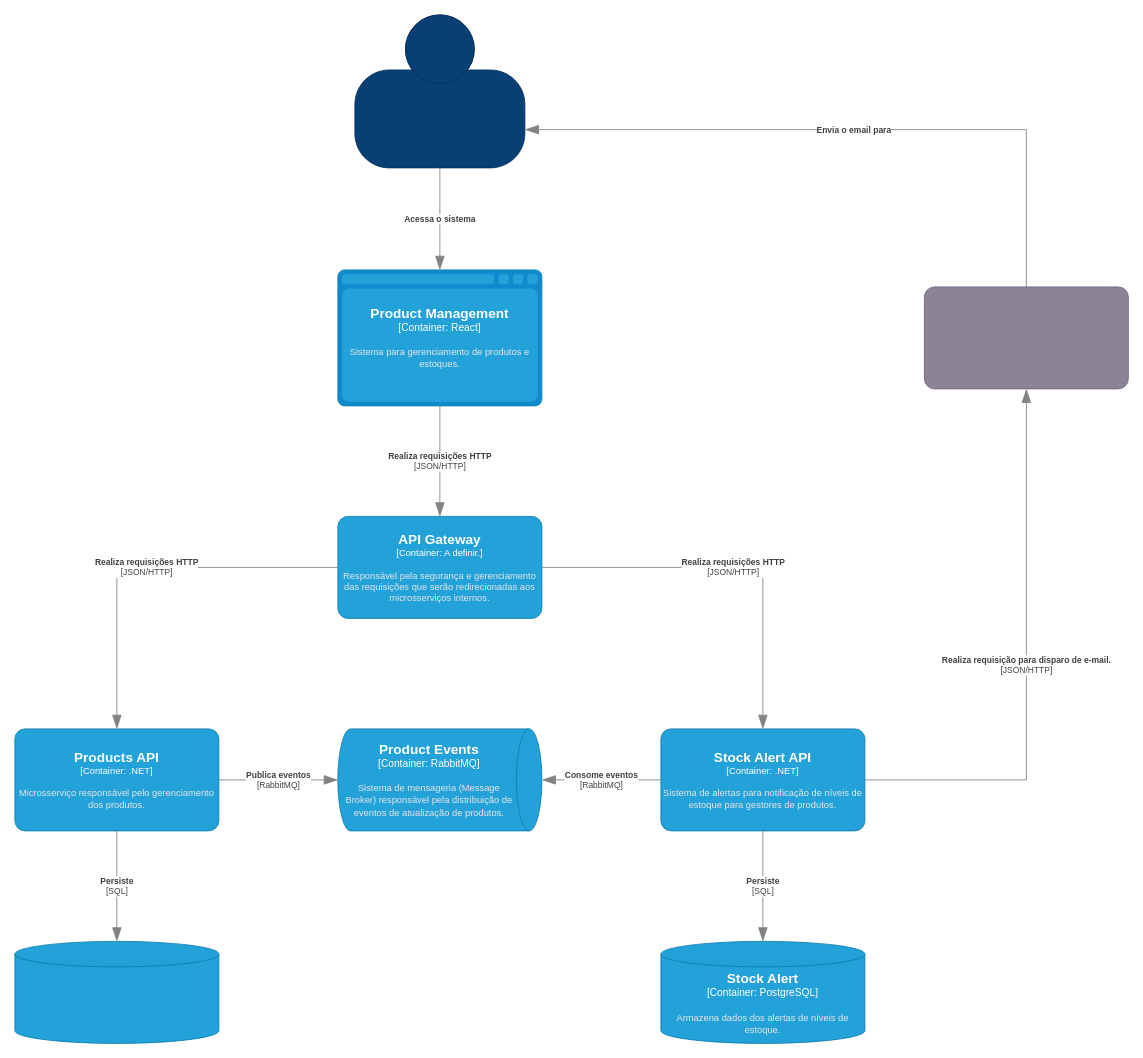
This 1143x1058 diagram has some shape labels left out. Each missing label, with the centre of its shape:
"Product Manager [Person] Responsável por cadastrar produtos e compra de estoque." belongs at pixel 439 91.
"Products [Container: PostgreSQL] Armazena os dados dos produtos." belongs at pixel 116 992.
"SendGrid [Software System] Sistema de disparos de e-mail." belongs at pixel 1026 337.
